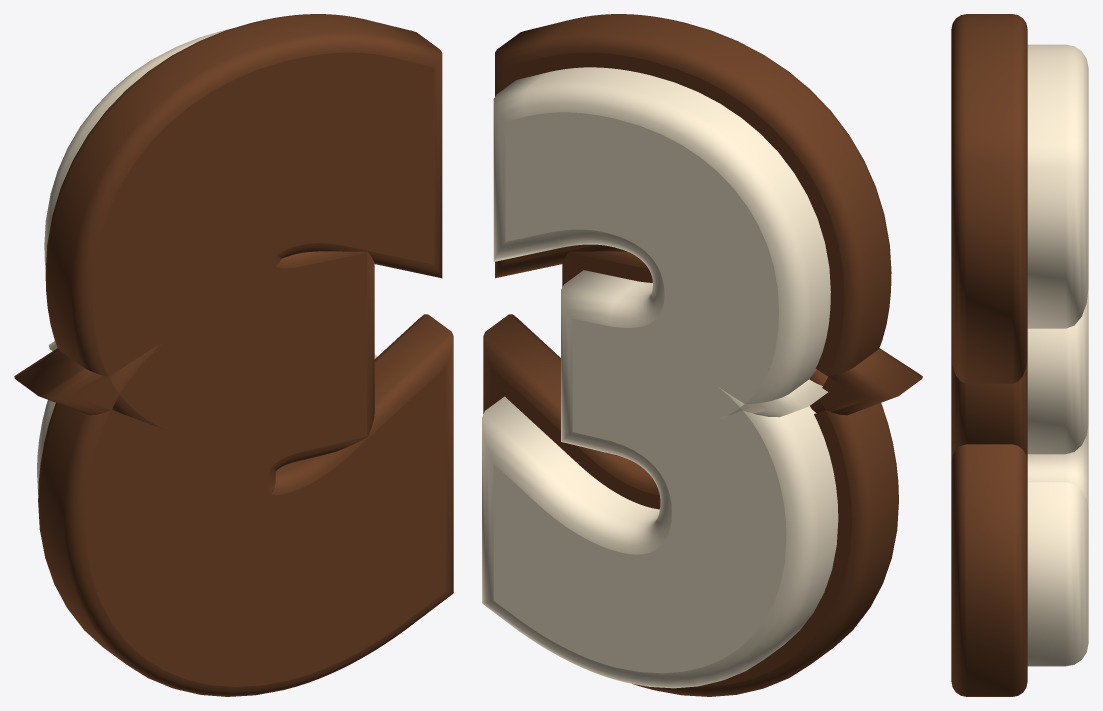
The model's file is Digit_3.fbx.
The picture shows the model from 3 angles, left to right: view 1: azimuth 30°, elevation 25°; view 2: azimuth 150°, elevation 25°; view 3: azimuth 270°, elevation 25°; orthographic projection. The views are drawn at different scales.
Visible parts, largest first — view 1: Digit_3; view 2: Digit_3; view 3: Digit_3.
Boxes of the visible parts, x1,y1,x2,y2 form: Digit_3: (14, 14, 453, 696); Digit_3: (482, 14, 922, 696); Digit_3: (951, 14, 1088, 696).
Bounding box in the file's own units: 0.6071 × 0.9101 × 0.18.
Materials: 1 (1 with a texture image).
